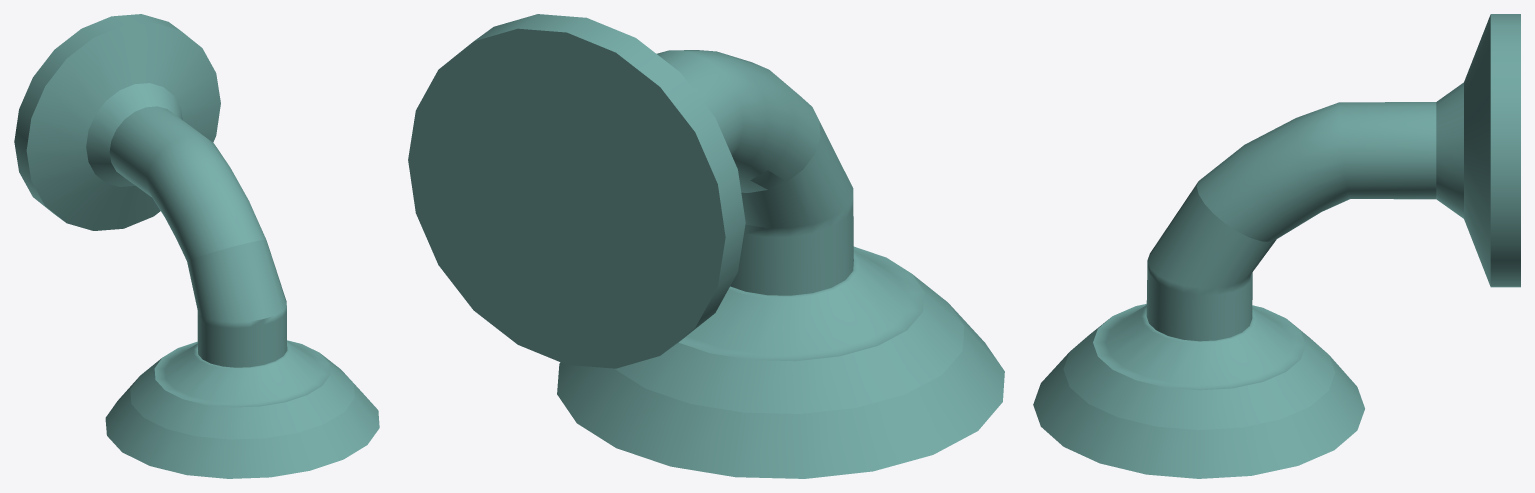
The model's file is light2.fbx.
3 views of the same model, side by side, from view 1: azimuth 30°, elevation 25°; view 2: azimuth 150°, elevation 25°; view 3: azimuth 270°, elevation 25° (orthographic). The views are drawn at different scales.
Visible parts, largest first — view 1: pCylinder1; view 2: pCylinder1; view 3: pCylinder1.
Part boxes in pixels (left/top/right/bottom): pCylinder1: left=14, top=14, right=379, bottom=478; pCylinder1: left=408, top=14, right=1004, bottom=478; pCylinder1: left=1033, top=14, right=1520, bottom=478.
Size of the model in its own units: 0.0341 by 0.0422 by 0.0487.
